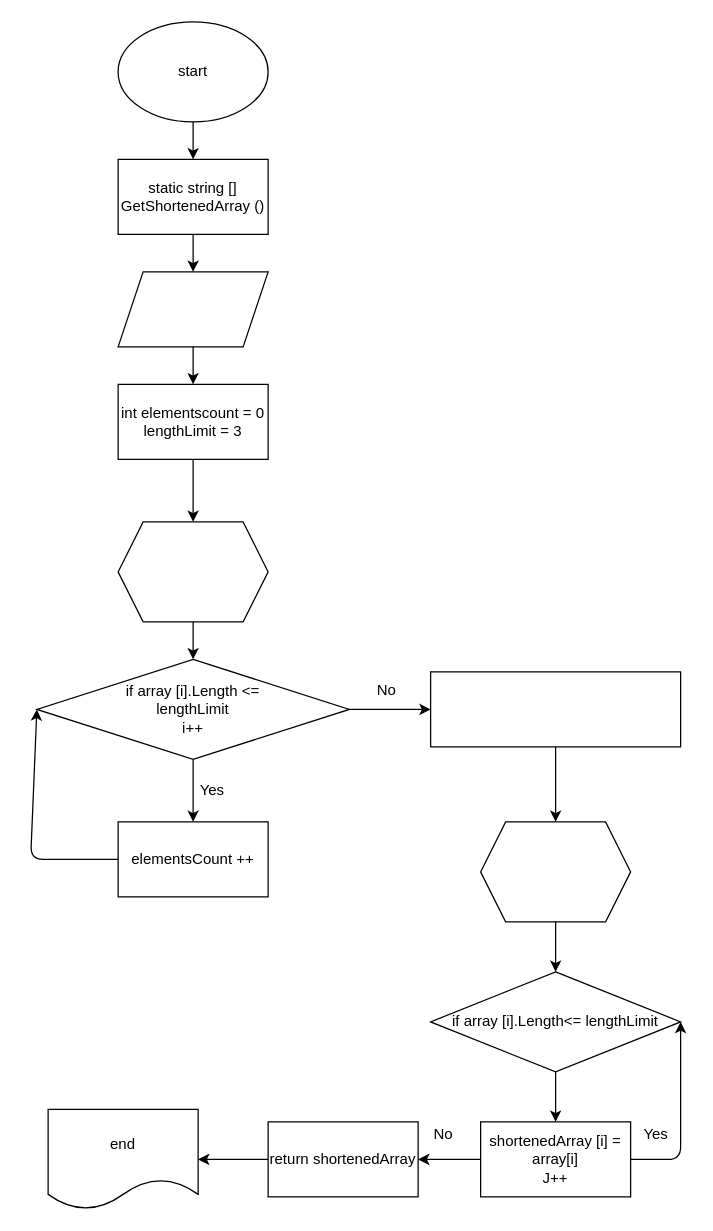
The diagram is 713 pixels wide and 1231 high, and some of its shapes have lost their labels. Here are the shapes that lost their labels. From the top down, the centre of each, then its label:
At (x=192, y=309): "input string [] array".
At (x=192, y=571): "int i = 0 i<=array.Length i++".
At (x=555, y=709): "string [] shortenedArray= new string [elementsCount] int j = 0".
At (x=555, y=871): "int i = 0; i <arrayLength i++".
